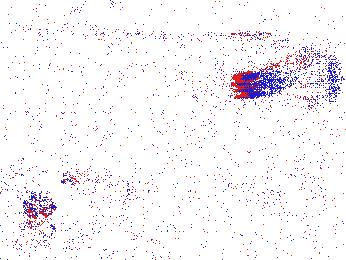flame jellyfish: (233, 42, 341, 109), (58, 164, 129, 218), (6, 167, 59, 219)
